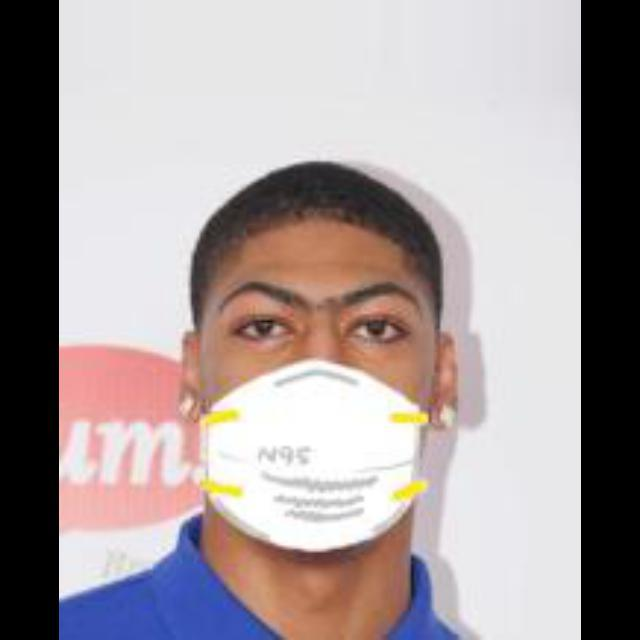suspicion: (142, 176, 503, 578)
